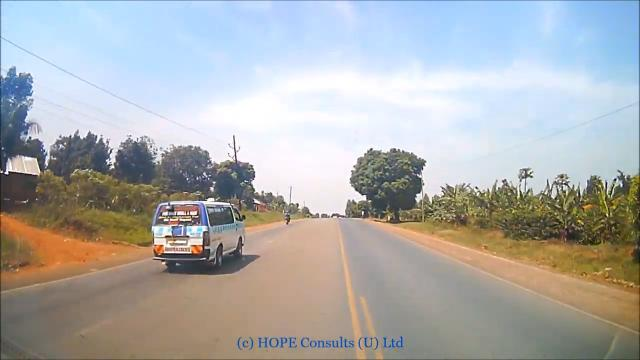motorcycle: (283, 211, 292, 225)
van: (145, 191, 248, 270)
